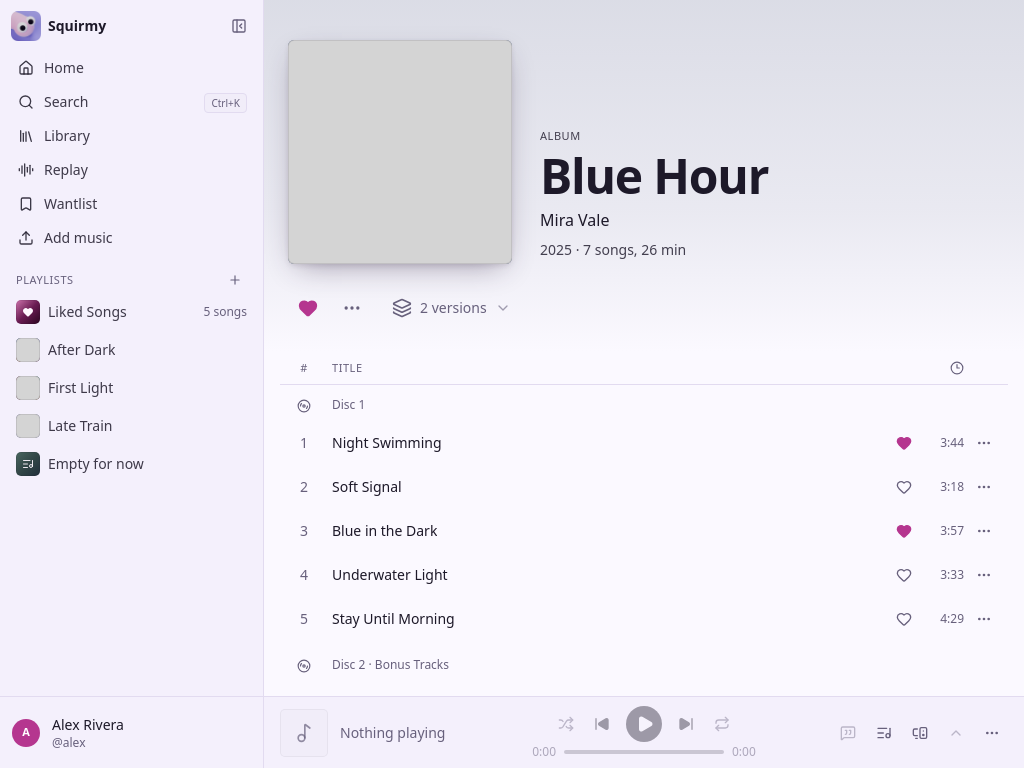
Test: album page › versions › lists the editions the server holds, and plays the one picked from the next song on
This screenshot has width=1024, height=768.
Later steps or results of the test are not shown.
Click the button with aria-label "Versions of Blue Hour" at (451, 308), box [376,288,527,328]
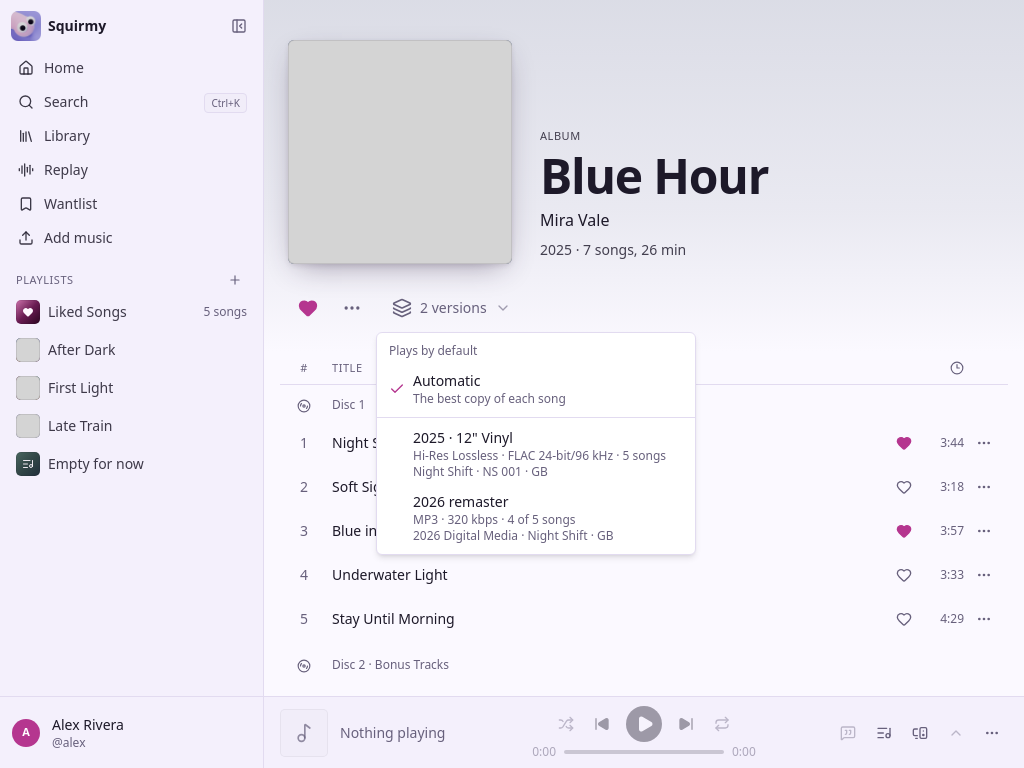
expect the menu item "2025 · 12\" Vinyl" shows "Hi-Res Lossless · FLAC 24-bit/96 kHz · 5 songs": met, box [413,447,666,464]
expect the menu item "2025 · 12\" Vinyl" shows "Night Shift · NS 001 · GB": met, box [413,463,548,480]
expect the menu item "2026 remaster" shows "MP3 · 320 kbps · 4 of 5 songs": met, box [413,511,576,528]
Click the menu item "2026 remaster" at (513, 518), box [413,492,614,544]
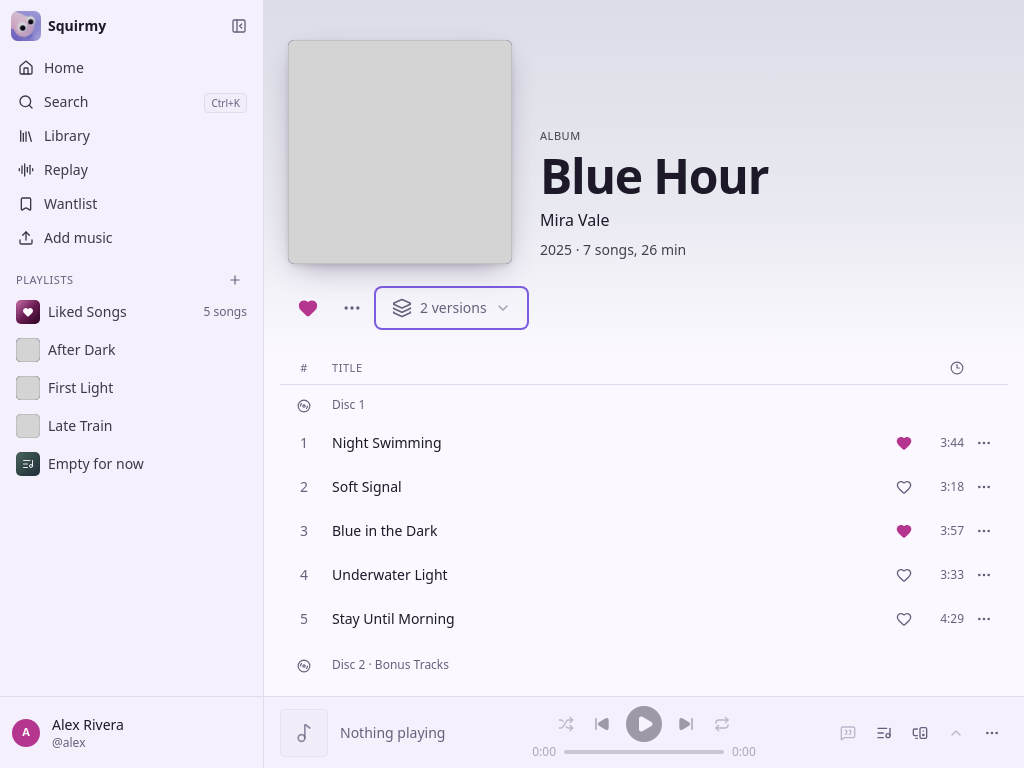
expect the menu is gone: met
Click the button with aria-label "Versions of Blue Hour" at (451, 308), box [376,288,527,328]
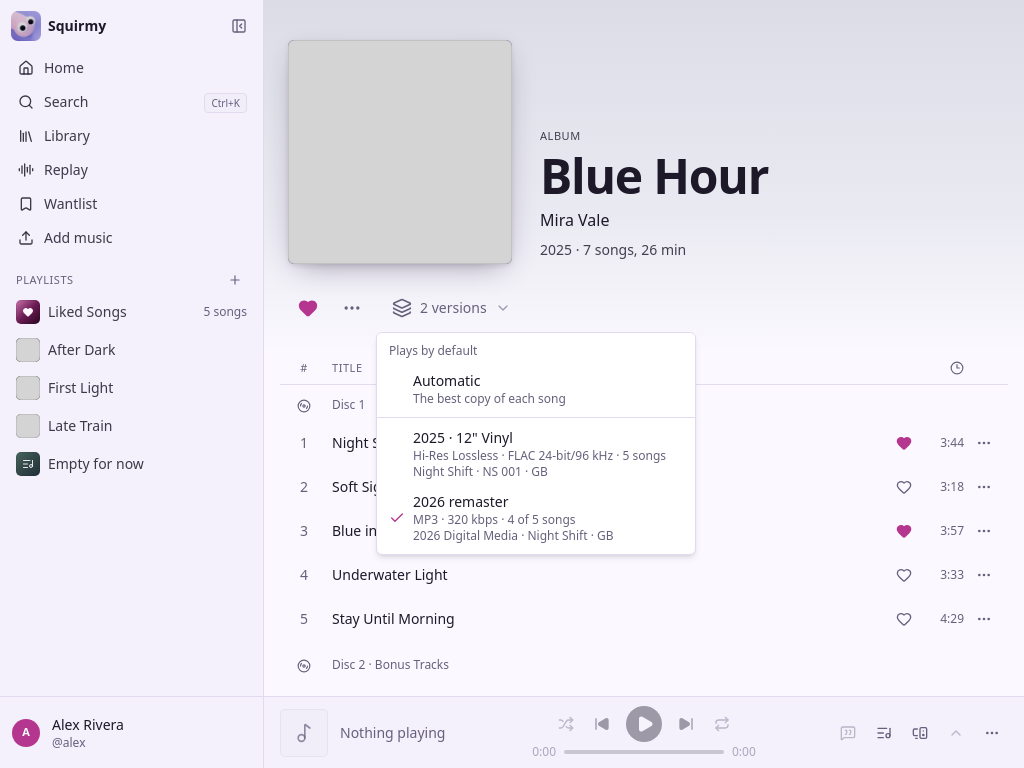
expect the menu item "2026 remaster" is checked: met, box [389,492,614,544]
